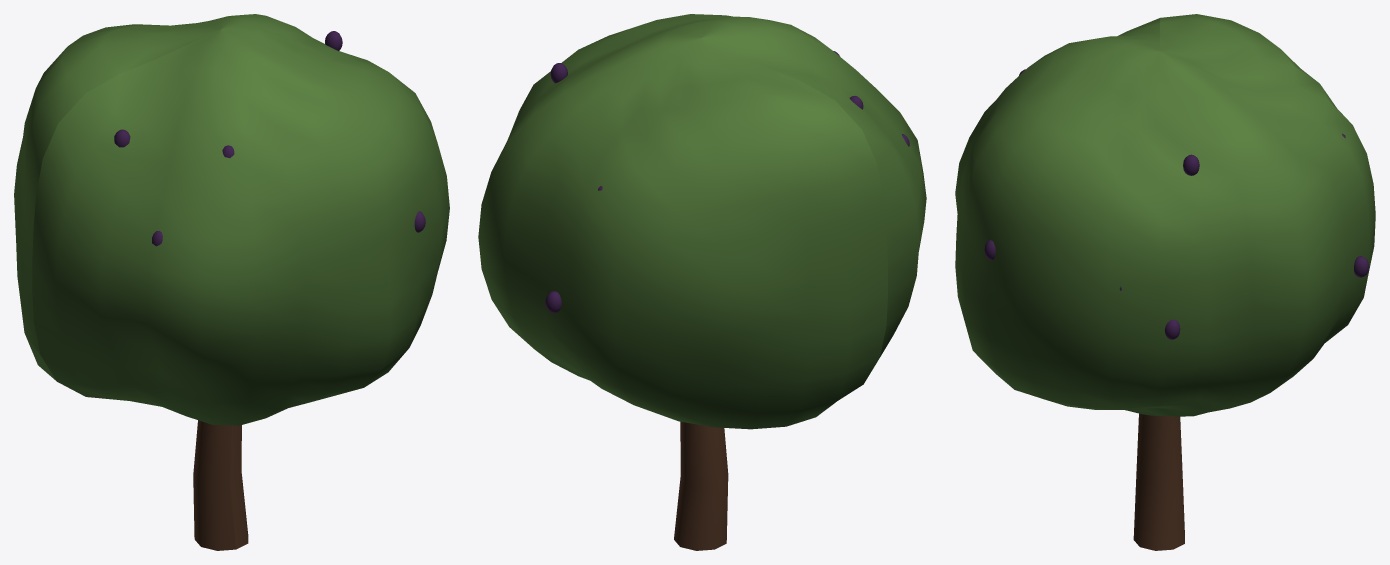
Rendered from arvore-jamelao.glb.
3 renders of one model, left to right at view 1: azimuth 30°, elevation 25°; view 2: azimuth 150°, elevation 25°; view 3: azimuth 270°, elevation 25°, orthographic. The views are drawn at different scales.
Parts seen in each view (by area): view 1: arvore-jamelao; view 2: arvore-jamelao; view 3: arvore-jamelao.
Boxes of the visible parts, bbox=[...] form: arvore-jamelao: bbox=[14, 14, 449, 550]; arvore-jamelao: bbox=[478, 14, 926, 550]; arvore-jamelao: bbox=[955, 14, 1375, 550].
Size of the model in its own units: 6.47 by 8.16 by 6.35.
